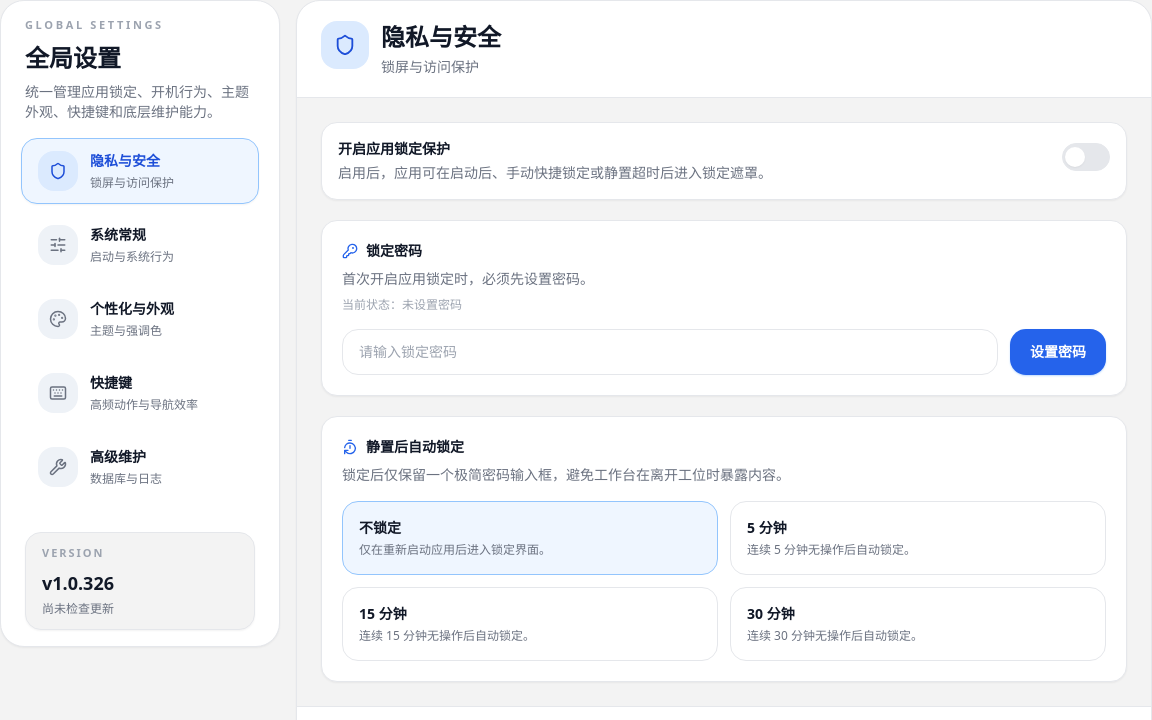
Scenario: saves the lock password explicitly and confirms with a toast
Type " 123456 " into the password field with placeholder "请输入锁定密码" at (670, 352), box left=342, top=329, right=998, bottom=375
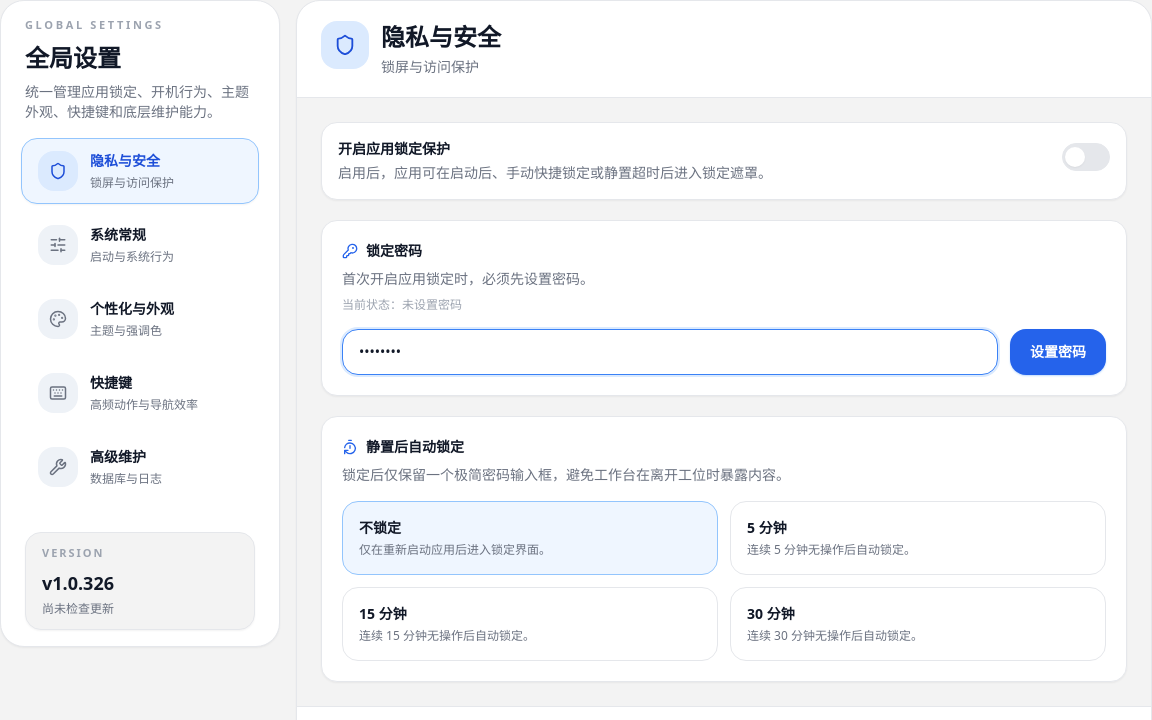
Click the button "设置密码" at (1058, 352), box left=1010, top=329, right=1106, bottom=375
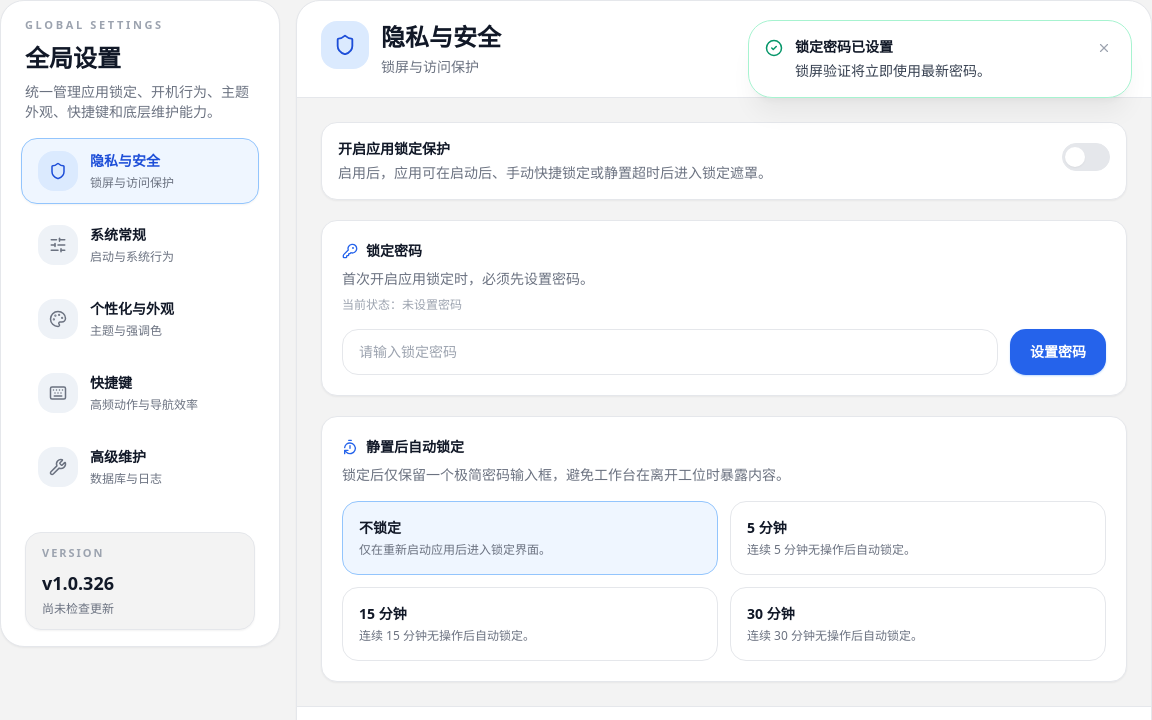
Expected: the text "锁定密码已设置" is shown, left=795, top=37, right=893, bottom=56
Expected: the text "锁屏验证将立即使用最新密码。" is shown, left=795, top=61, right=991, bottom=80
